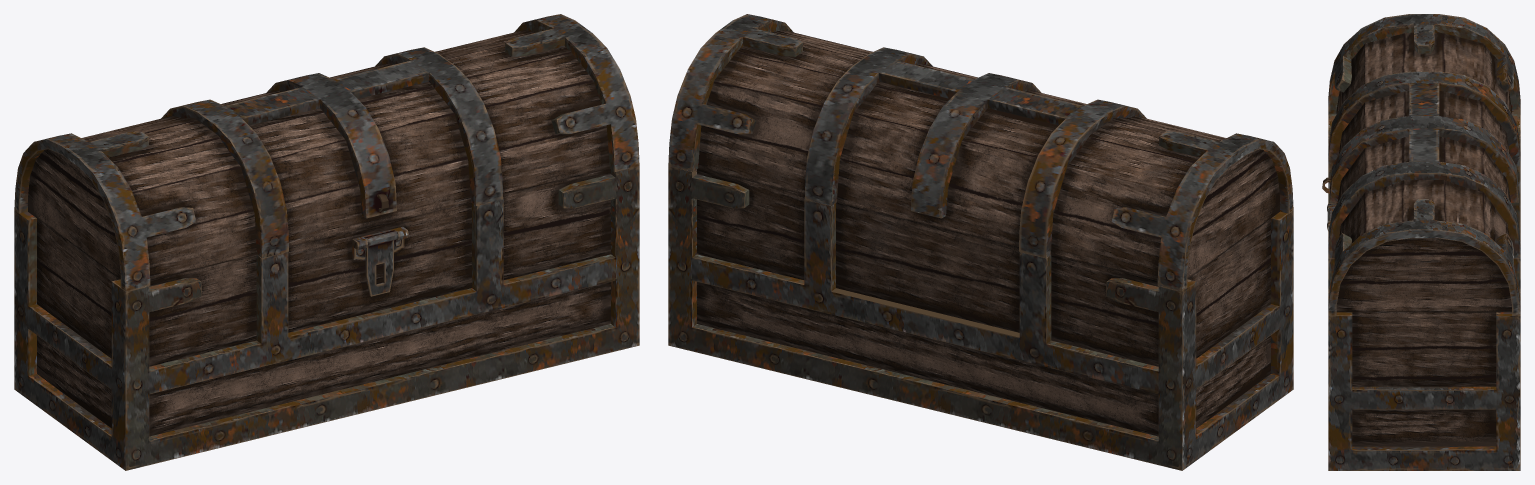
File: Truhe.fbx
3 renders of one model, left to right at view 1: azimuth 30°, elevation 25°; view 2: azimuth 150°, elevation 25°; view 3: azimuth 270°, elevation 25°, orthographic. The views are drawn at different scales.
Parts seen in each view (by area): view 1: Truhe.002; view 2: Truhe.002; view 3: Truhe.002.
Boxes of the visible parts, x1,y1,x2,y2 form: Truhe.002: (14, 14, 639, 470); Truhe.002: (668, 14, 1293, 470); Truhe.002: (1322, 14, 1520, 470).
Size of the model in its own units: 120 by 62.03 by 46.34.
